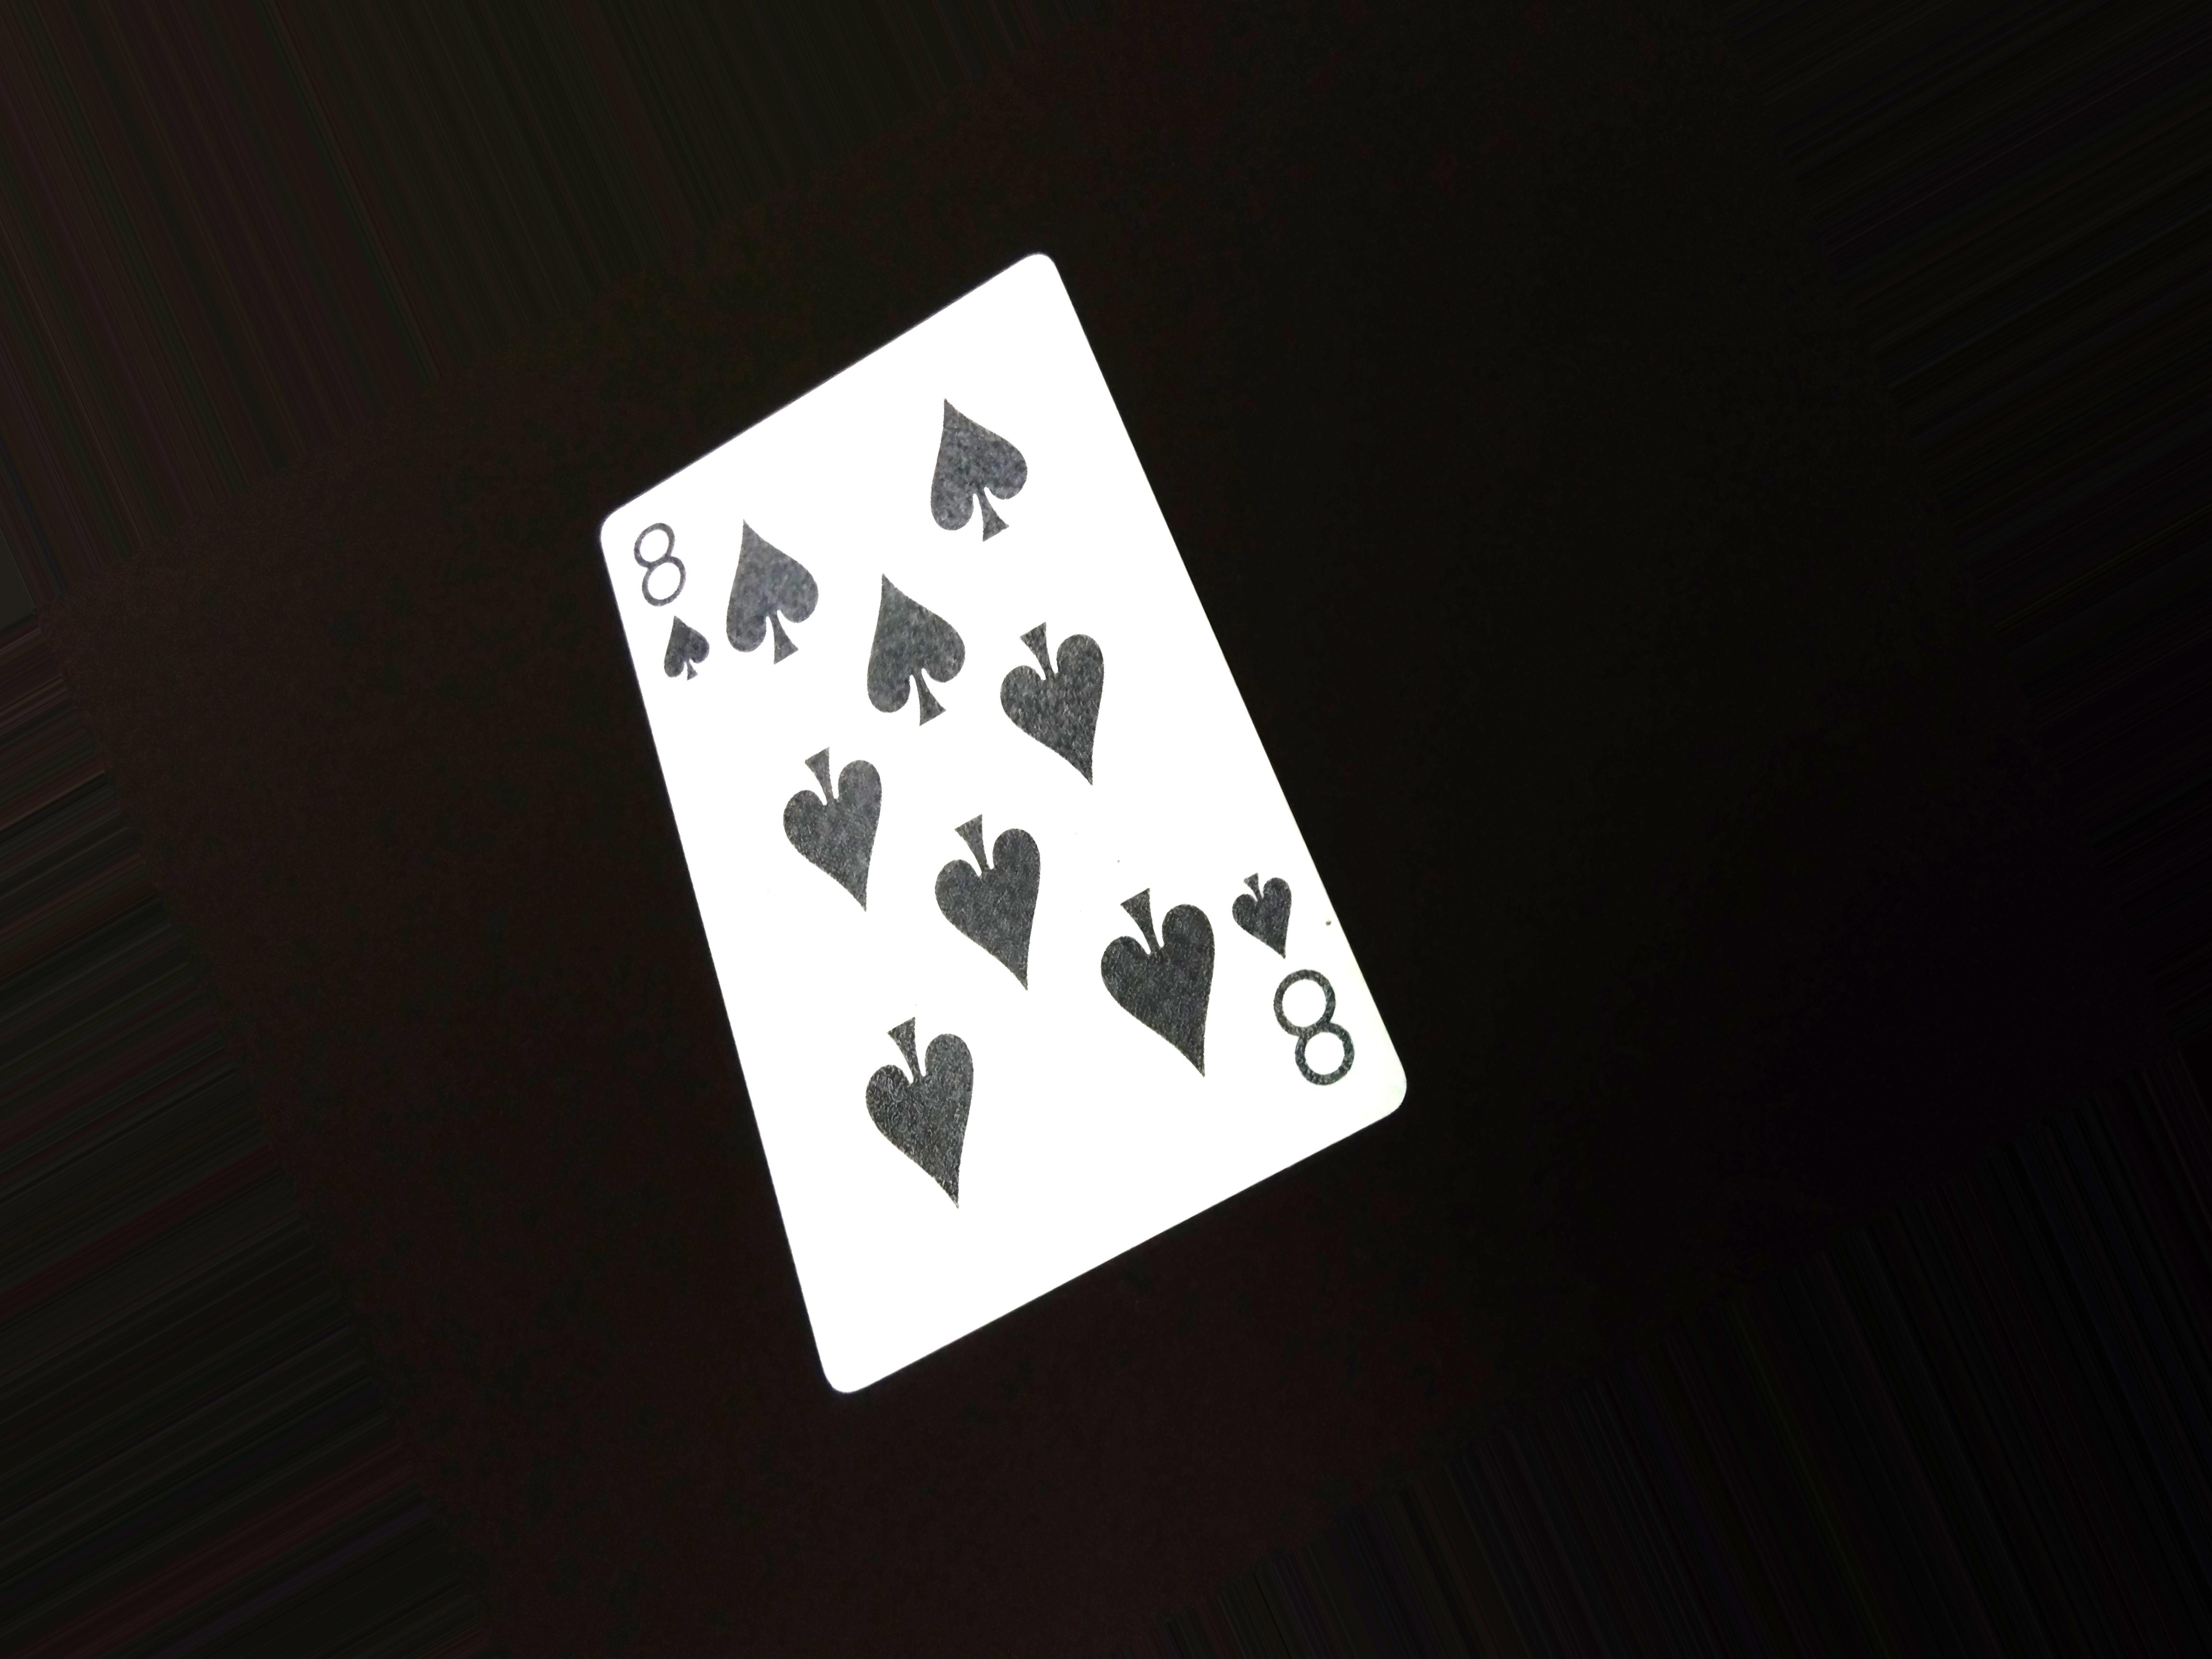8S: (624, 512, 730, 701)
